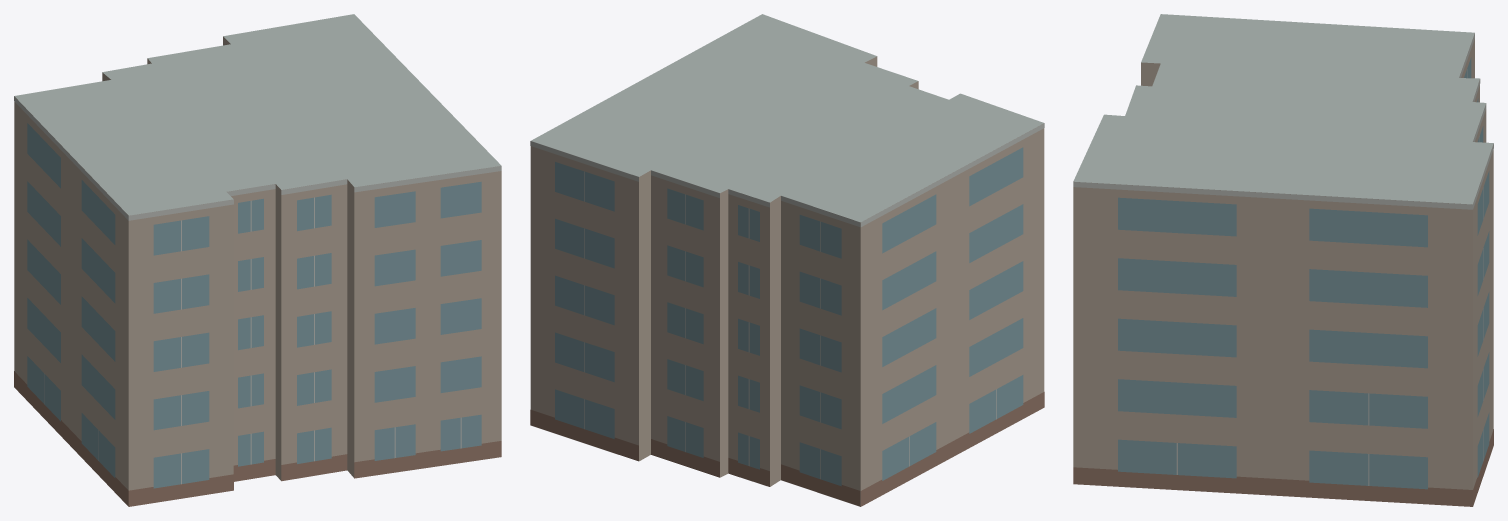
The model's file is survey-upis-32681172.glb.
The picture shows the model from 3 angles, left to right: view 1: azimuth 30°, elevation 25°; view 2: azimuth 150°, elevation 25°; view 3: azimuth 270°, elevation 25°; orthographic projection. The views are drawn at different scales.
Parts seen in each view (by area): view 1: survey-upis-32681172.tmp; view 2: survey-upis-32681172.tmp; view 3: survey-upis-32681172.tmp.
Part boxes in pixels (x1,y1,x2,y2): survey-upis-32681172.tmp: (14, 14, 501, 506); survey-upis-32681172.tmp: (530, 14, 1044, 506); survey-upis-32681172.tmp: (1073, 14, 1493, 506).
Size of the model in its own units: 18.78 by 13.9 by 17.53.
